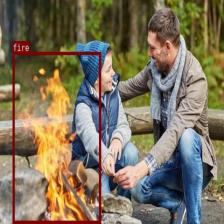fire: (12, 51, 100, 223)
